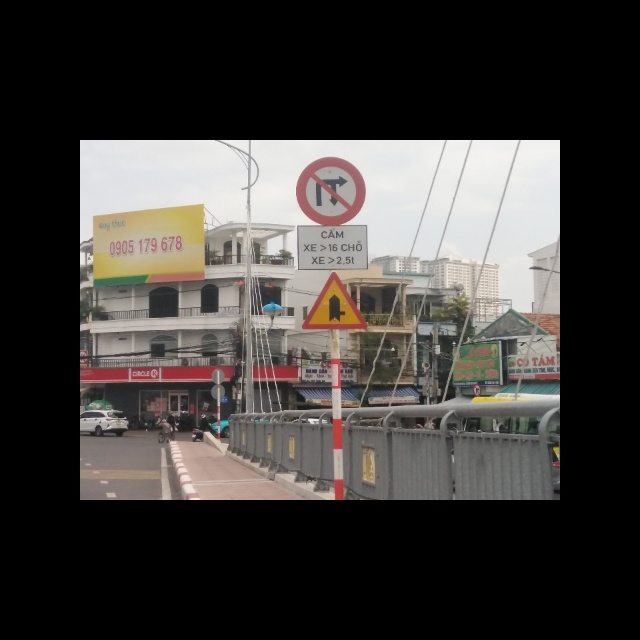Cấm quay đầu và rẽ phải: (295, 155, 365, 225)
Giao nhau với đường không ưu tiên: (301, 271, 370, 329)
